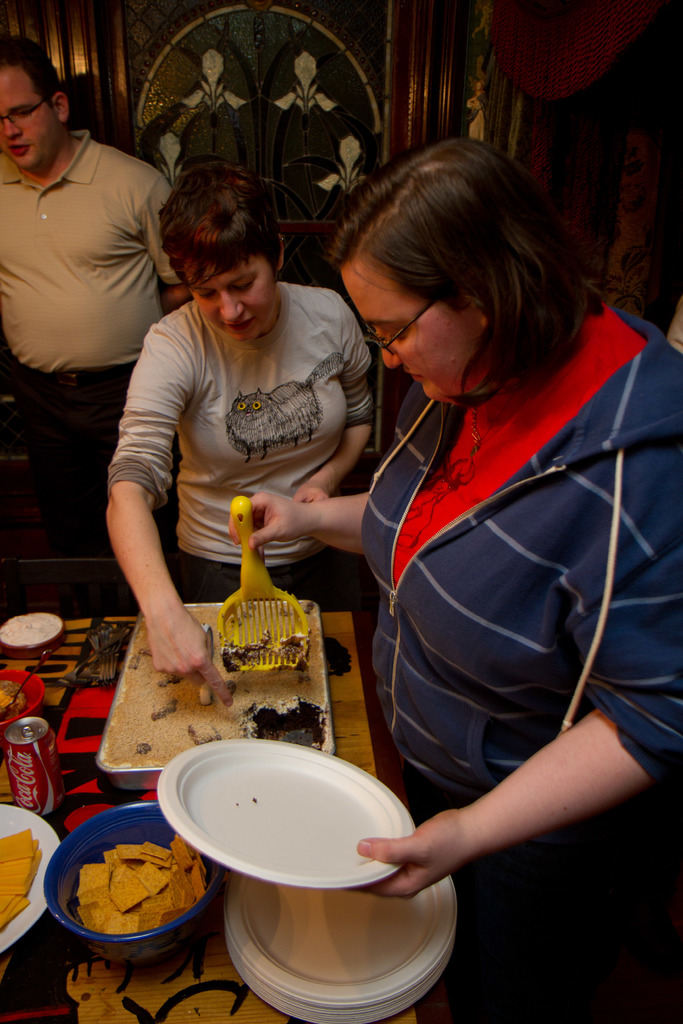plate: (160, 755, 410, 881)
